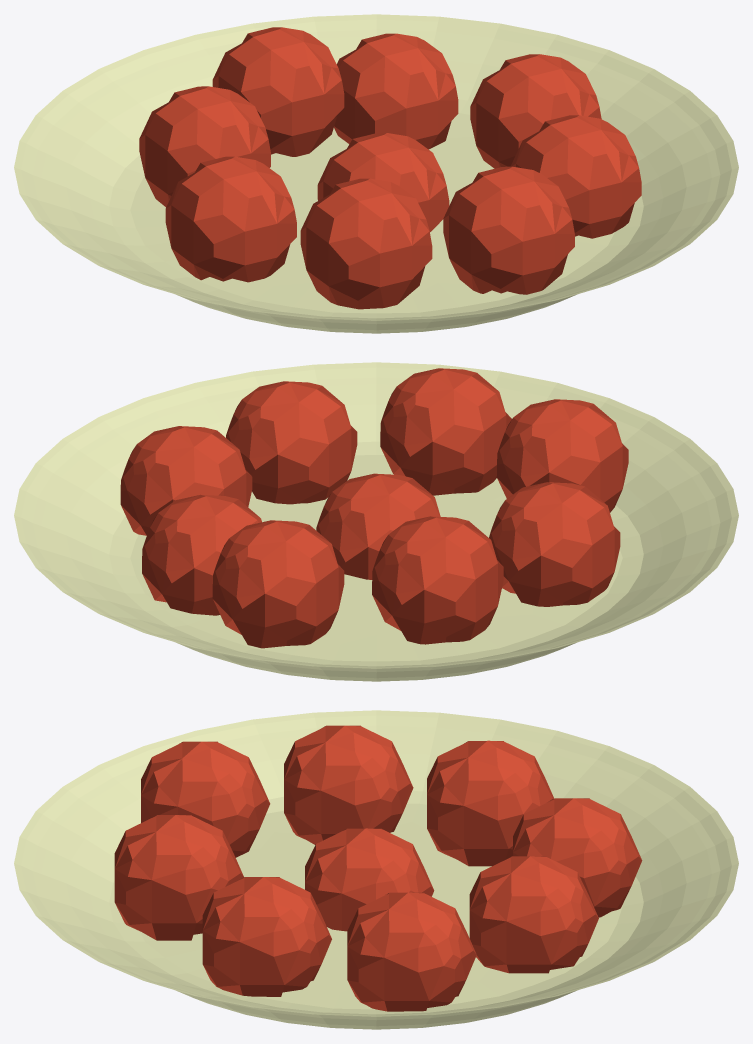
Rendered from kremes.fbx.
3 renders of one model, top to bottom at view 1: azimuth 30°, elevation 25°; view 2: azimuth 150°, elevation 25°; view 3: azimuth 270°, elevation 25°, orthographic.
Visible parts, largest first — view 1: Cylinder, Sphere.003, Sphere.004, Sphere.002, Sphere, Sphere.007, Sphere.005, Sphere.001, Sphere.006, Sphere.008; view 2: Cylinder, Sphere.001, Sphere, Sphere.002, Sphere.004, Sphere.005, Sphere.003, Sphere.006, Sphere.007, Sphere.008; view 3: Cylinder, Sphere.005, Sphere.006, Sphere.007, Sphere.004, Sphere.002, Sphere.001, Sphere.003, Sphere, Sphere.008.
Boxes of the visible parts, x1,y1,x2,y2 form: Cylinder: (14,14,738,333); Sphere.003: (300,178,432,309); Sphere.004: (443,166,574,294); Sphere.002: (165,156,296,282); Sphere: (212,27,344,156); Sphere.007: (334,33,458,149); Sphere.005: (510,115,641,238); Sphere.001: (139,86,270,207); Sphere.006: (470,54,601,168); Sphere.008: (317,133,449,231); Cylinder: (14,362,738,681); Sphere.001: (372,516,503,644); Sphere: (212,520,344,648); Sphere.002: (489,482,620,606); Sphere.004: (380,368,511,495); Sphere.005: (226,381,357,504); Sphere.003: (497,399,628,512); Sphere.006: (120,426,252,535); Sphere.007: (142,494,261,615); Sphere.008: (316,473,440,579); Cylinder: (14,710,738,1029); Sphere.005: (202,877,331,996); Sphere.006: (347,892,476,1011); Sphere.007: (469,856,598,973); Sphere.004: (114,815,243,940); Sphere.002: (284,725,413,844); Sphere.001: (427,740,554,866); Sphere.003: (141,741,270,857); Sphere: (513,798,642,917); Sphere.008: (305,828,434,931).
Bounding box in the file's own units: 231 × 54.78 × 231.
